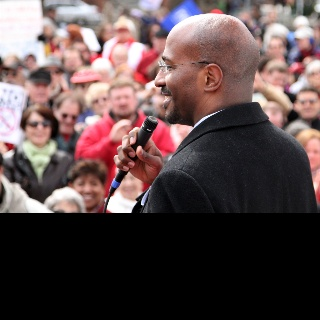without_mask: (153, 36, 204, 124)
